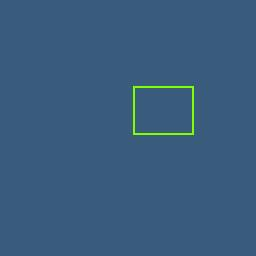Safety Vest: (133, 86, 193, 134)
